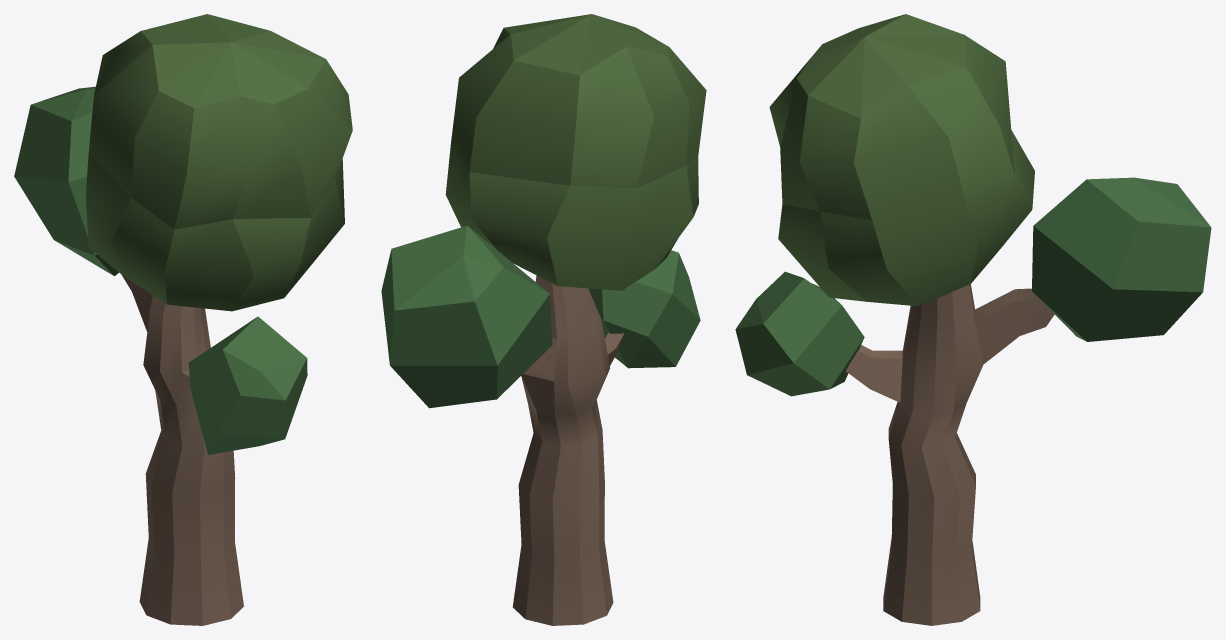
The model's file is tree06.fbx.
3 views of the same model, side by side, from view 1: azimuth 30°, elevation 25°; view 2: azimuth 150°, elevation 25°; view 3: azimuth 270°, elevation 25° (orthographic). The views are drawn at different scales.
Visible parts, largest first — view 1: group2, pCylinder2, pSphere2, pSphere1; view 2: group2, pCylinder2, pSphere1, pSphere2; view 3: group2, pCylinder2, pSphere1, pSphere2.
Part boxes in pixels (bbox=[...]): group2: bbox=[86, 14, 352, 311]; pCylinder2: bbox=[121, 274, 243, 625]; pSphere2: bbox=[188, 316, 307, 454]; pSphere1: bbox=[14, 86, 118, 275]; group2: bbox=[445, 14, 706, 290]; pCylinder2: bbox=[512, 275, 624, 625]; pSphere1: bbox=[381, 225, 552, 408]; pSphere2: bbox=[588, 250, 700, 368]; group2: bbox=[769, 14, 1034, 306]; pCylinder2: bbox=[846, 284, 1054, 625]; pSphere1: bbox=[1032, 177, 1211, 341]; pSphere2: bbox=[735, 271, 864, 396].
Size of the model in its own units: 19.47 by 47.41 by 35.9.
